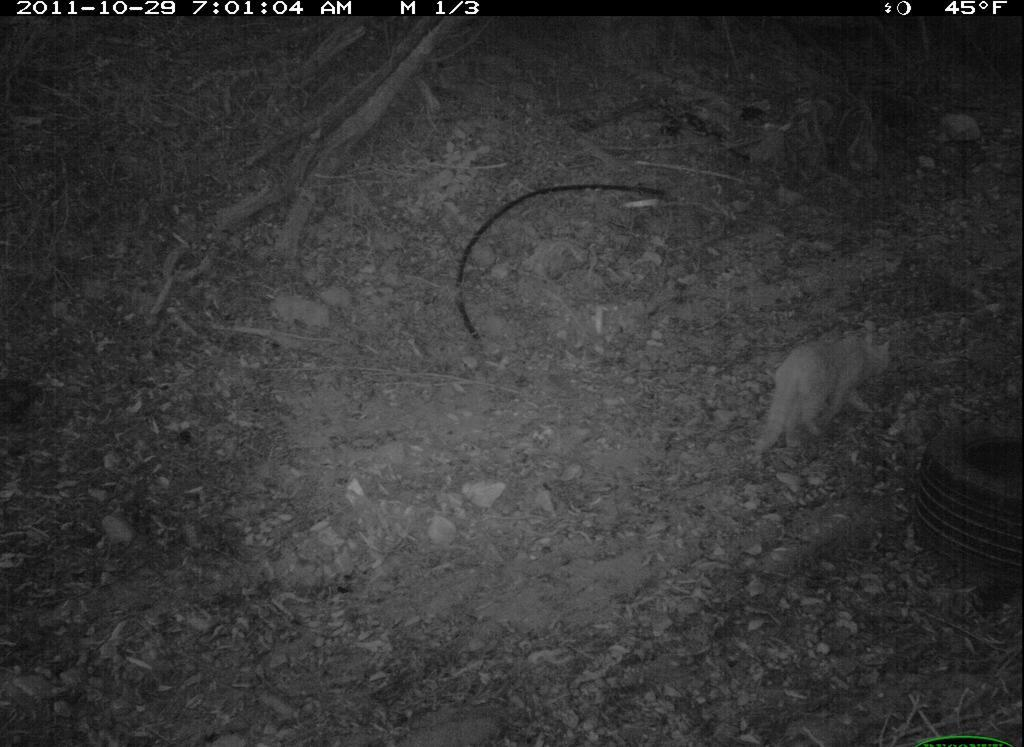cat: (744, 305, 912, 457)
